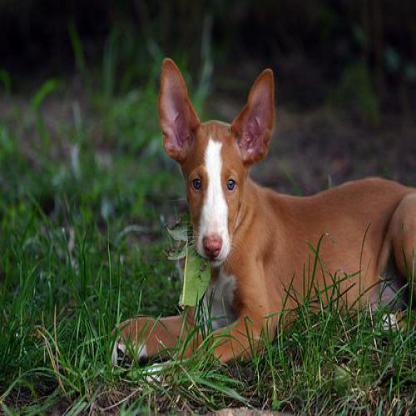dog: (144, 48, 416, 347)
